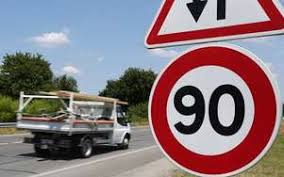Speed_limit_90km: (146, 45, 284, 176)
